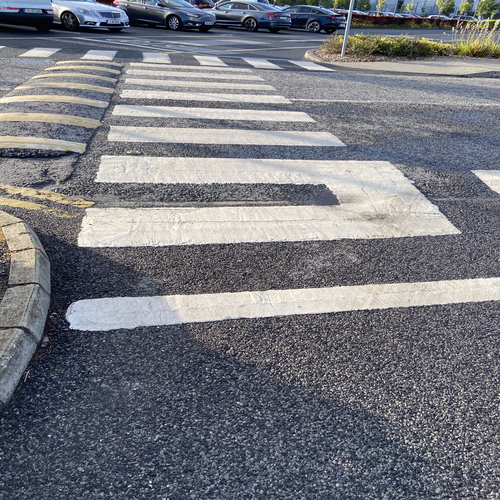Car: (125, 1, 217, 31)
Zebra Crossing: (123, 85, 406, 253), (78, 48, 307, 71)
